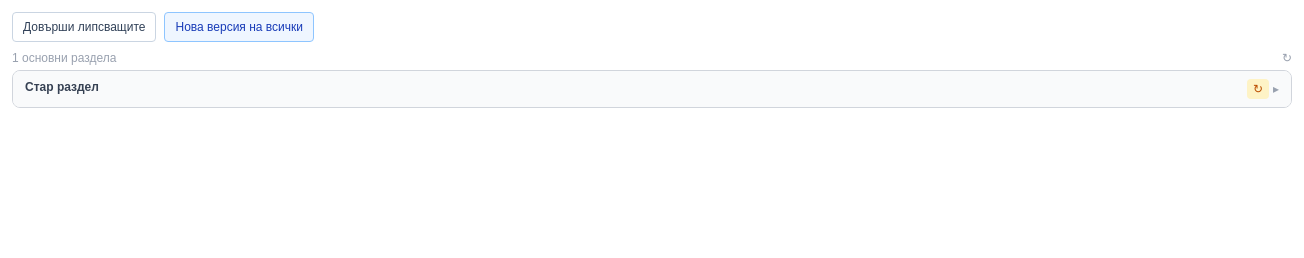
Scenario: GenerationsPanel › keeps existing generations visible when the v2 plan is disabled
Click the button "Стар раздел" at x=62, y=87, box [25, 79, 1247, 95]
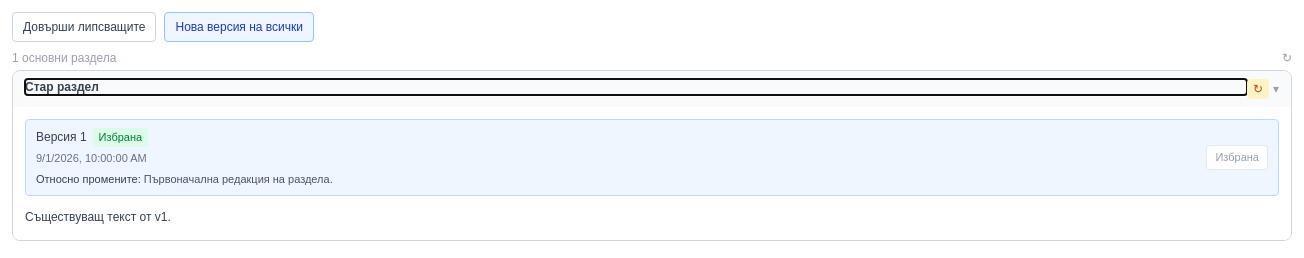
Expected: the text "Съществуващ текст от v1." is shown, [25, 210, 171, 224]
